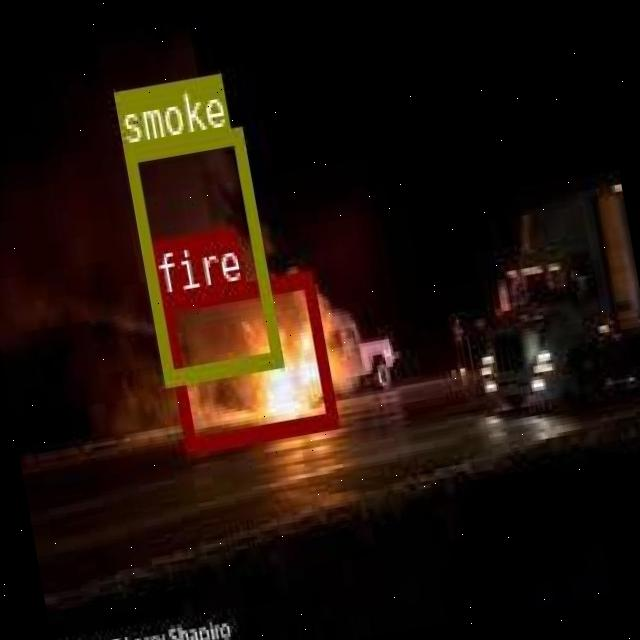fire: (157, 268, 335, 451)
smoke: (121, 124, 279, 384)
